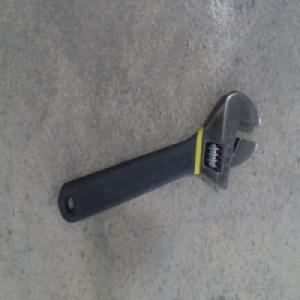AdjustableWrench: (57, 91, 260, 224)
